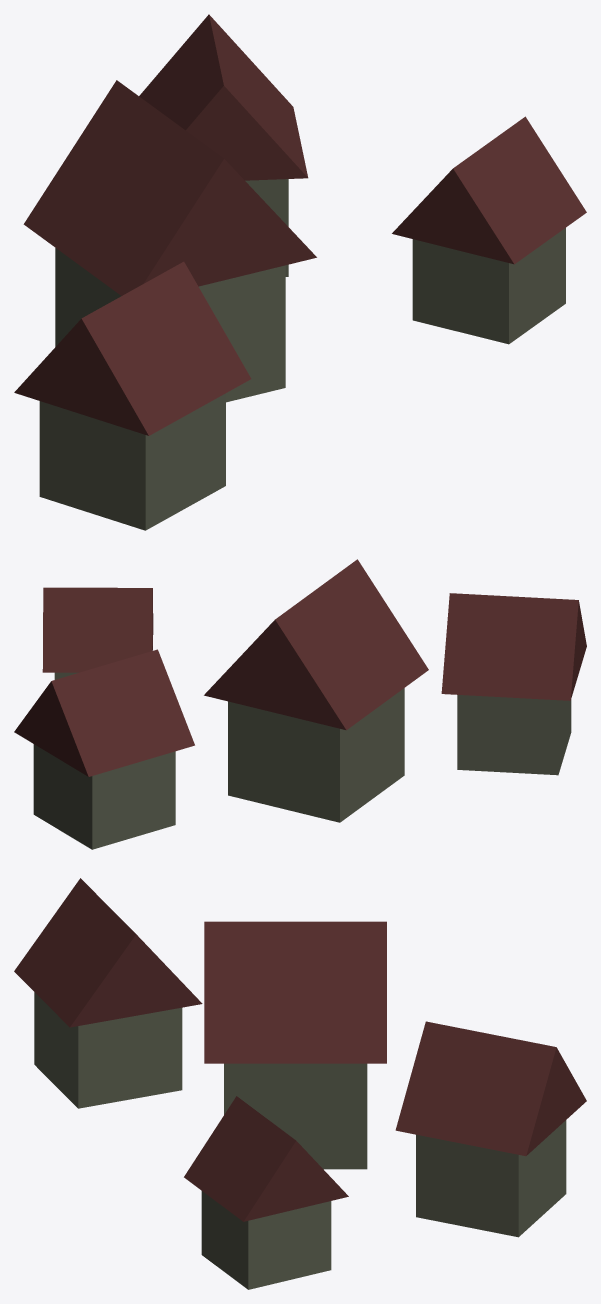
File: houses.gltf
3 views of the same model, one above another, from view 1: azimuth 30°, elevation 25°; view 2: azimuth 150°, elevation 25°; view 3: azimuth 270°, elevation 25° (orthographic). The views are drawn at different scales.
Parts seen in each view (by area): view 1: Cube.001, Cube.007, Cube.006, Cube.005, Cube.003, Cube.004, Cube, Cube.002; view 2: Cube.001, Cube, Cube.003, Cube.007, Cube.002, Cube.005, Cube.006; view 3: Cube.001, Cube.003, Cube.007, Cube.002, Cube.006, Cube, Cube.005, Cube.004.
Part boxes in pixels (x1=…): Cube.001: x1=23, y1=80, x2=316, y2=295; Cube.007: x1=14, y1=261, x2=251, y2=435; Cube.006: x1=39, y1=393, x2=225, y2=530; Cube.005: x1=392, y1=116, x2=586, y2=264; Cube.003: x1=139, y1=14, x2=308, y2=180; Cube.004: x1=412, y1=228, x2=565, y2=344; Cube: x1=55, y1=248, x2=285, y2=402; Cube.002: x1=245, y1=179, x2=288, y2=276; Cube.001: x1=204, y1=559, x2=428, y2=730; Cube: x1=228, y1=688, x2=404, y2=822; Cube.003: x1=14, y1=649, x2=194, y2=776; Cube.007: x1=441, y1=593, x2=586, y2=700; Cube.002: x1=33, y1=744, x2=175, y2=849; Cube.005: x1=42, y1=587, x2=153, y2=672; Cube.006: x1=457, y1=695, x2=571, y2=775; Cube.001: x1=204, y1=921, x2=386, y2=1063; Cube.003: x1=395, y1=1021, x2=586, y2=1156; Cube.007: x1=14, y1=878, x2=202, y2=1027; Cube.002: x1=416, y1=1120, x2=566, y2=1237; Cube.006: x1=34, y1=992, x2=182, y2=1108; Cube: x1=224, y1=1063, x2=367, y2=1169; Cube.005: x1=184, y1=1096, x2=348, y2=1221; Cube.004: x1=201, y1=1191, x2=331, y2=1289.
Size of the model in its own units: 5.87 by 2.28 by 5.44.
